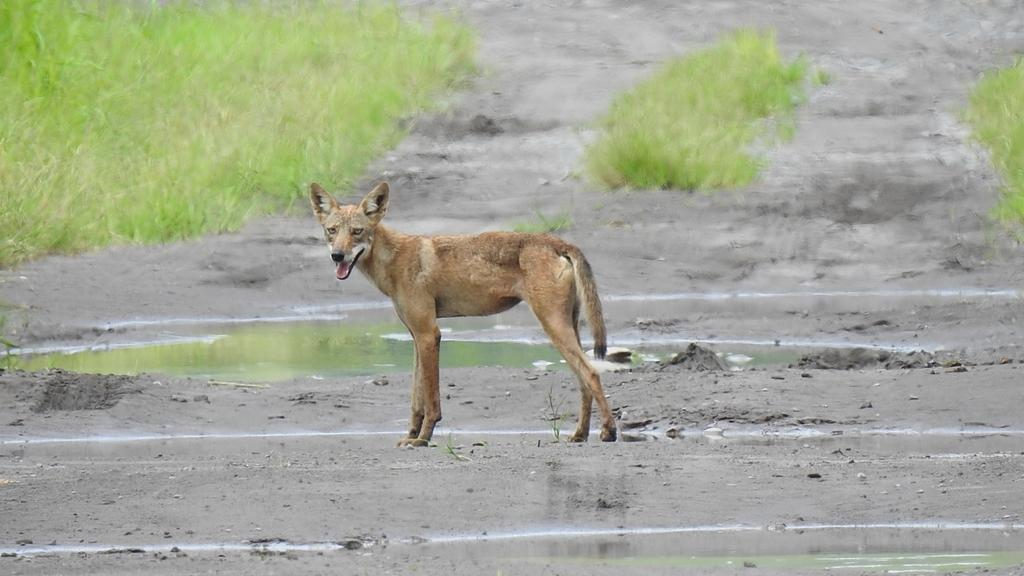Coyote: (307, 179, 620, 444)
